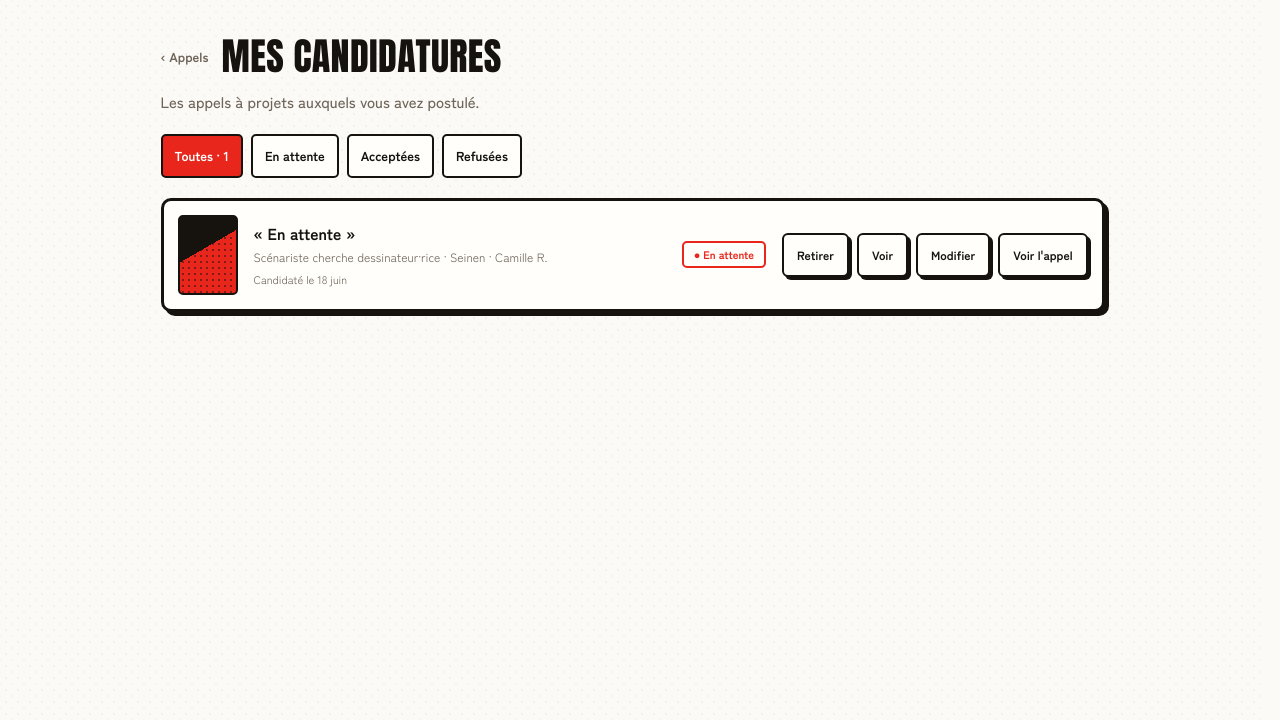
it: MesCandidaturesClient (MC-6) › a pending row offers "Voir" and "Modifier"; "Voir" opens the detail with the message + samples
Check: the text "« En attente »" is shown, box [254,221,355,245]
Check: the button "Modifier" is shown, box [916,232,990,276]
Click the button "Voir": (882, 254) [857,232,908,276]
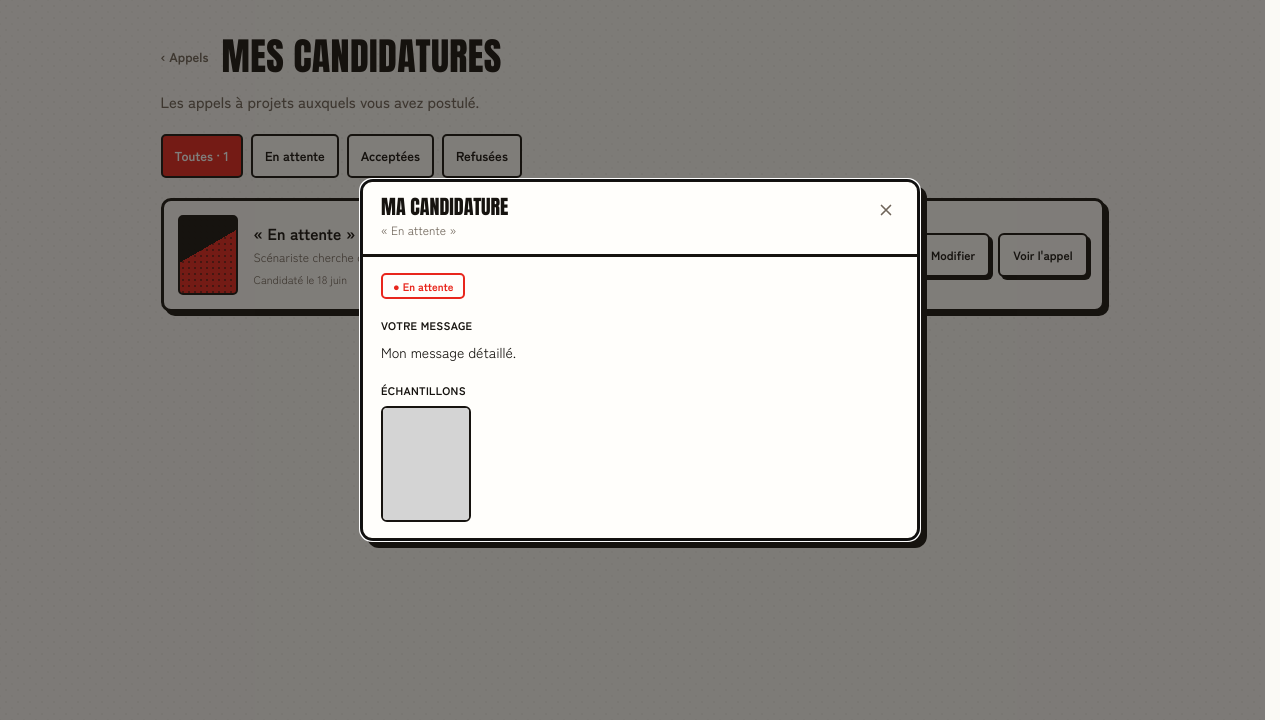
Check: the text "Mon message détaillé." is shown, box [381,342,516,362]
